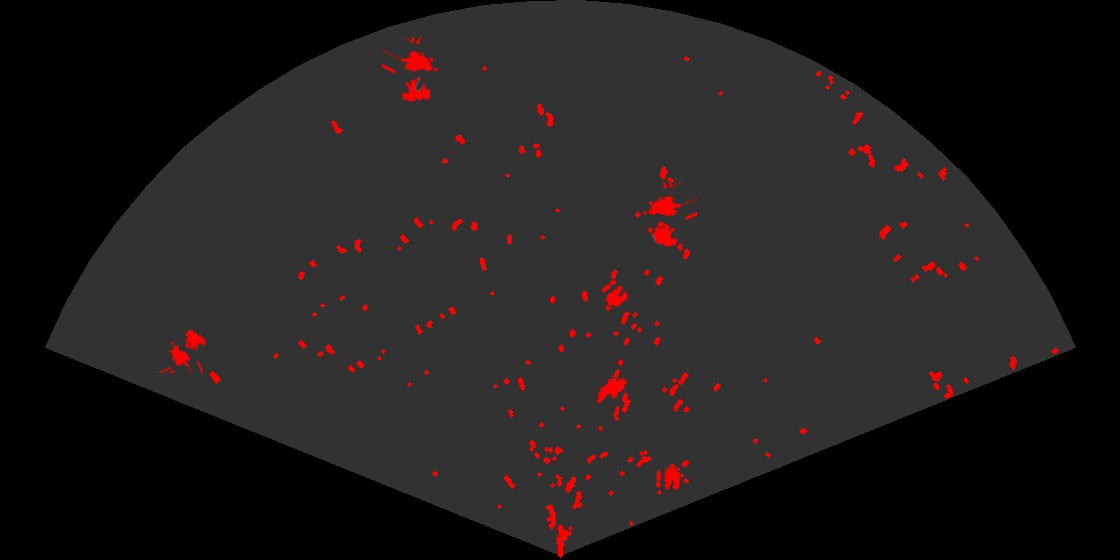AUV: (595, 376, 629, 405)
ball: (600, 278, 630, 309), (654, 466, 682, 492)
cage: (382, 37, 439, 104), (642, 182, 697, 248), (156, 328, 208, 373)
